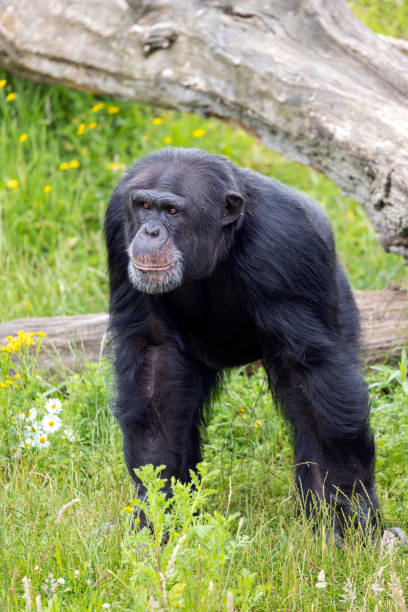chimpanzee: (82, 129, 261, 309)
